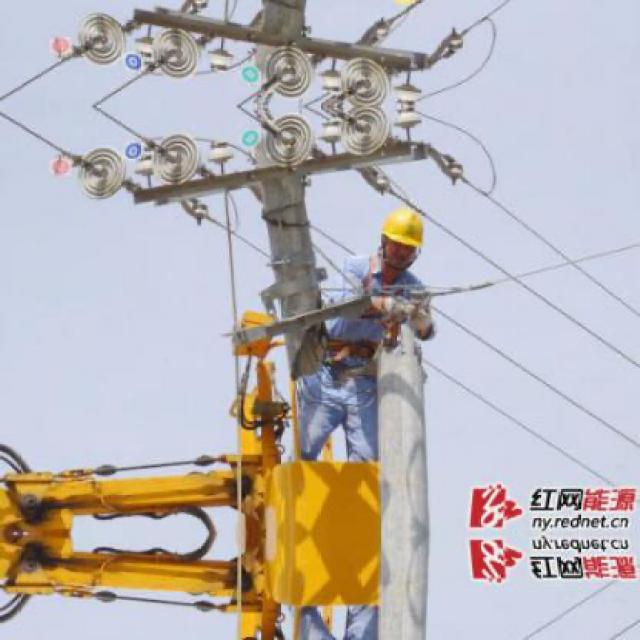helmet: (372, 197, 430, 281), (371, 0, 429, 17)
